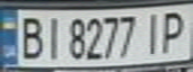2: (84, 14, 106, 61)
7: (118, 11, 142, 58), (103, 12, 121, 60)
8: (63, 14, 87, 61)
B: (15, 12, 48, 61)
I: (39, 12, 66, 61), (139, 9, 166, 56)
P: (157, 7, 190, 54)
